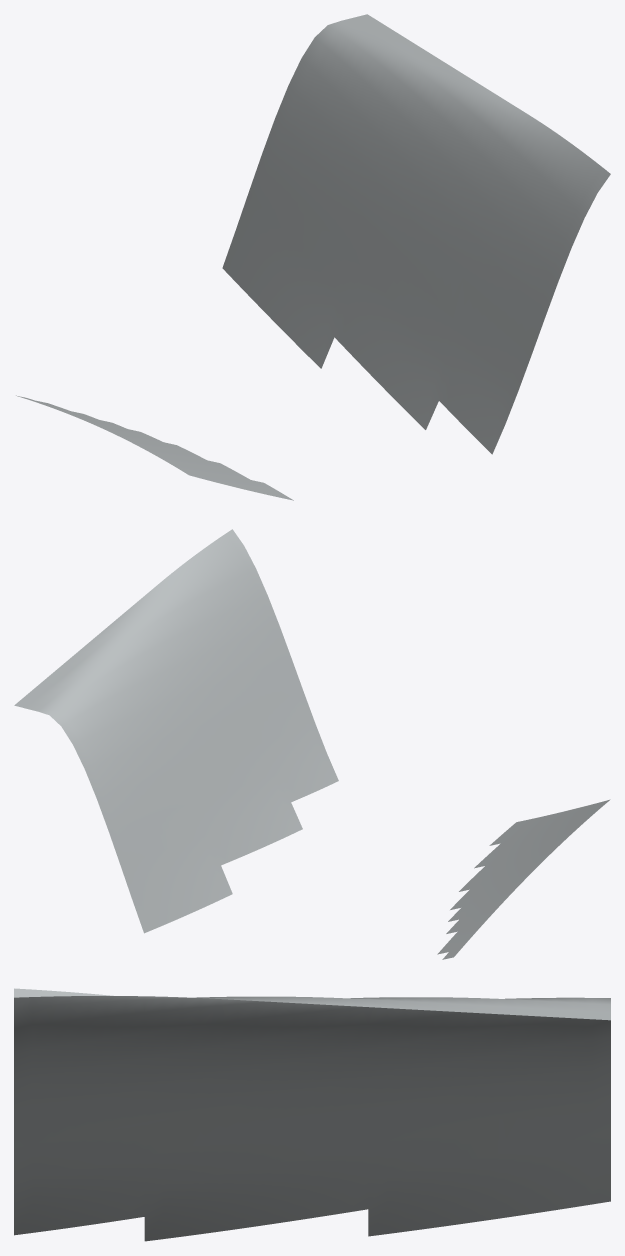
The model's file is alpine-11-6.glb.
3 views of the same model, one above another, from view 1: azimuth 30°, elevation 25°; view 2: azimuth 150°, elevation 25°; view 3: azimuth 270°, elevation 25° (orthographic). The views are drawn at different scales.
Visible parts, largest first — view 1: alpine-11-6; view 2: alpine-11-6; view 3: alpine-11-6.
Boxes of the visible parts, x1=… form: alpine-11-6: x1=16, y1=14, x2=610, y2=500; alpine-11-6: x1=14, y1=529, x2=610, y2=959; alpine-11-6: x1=14, y1=988, x2=610, y2=1241.
Bounding box in the file's own units: 256 × 155 × 256.
1 material, 1 textured.
